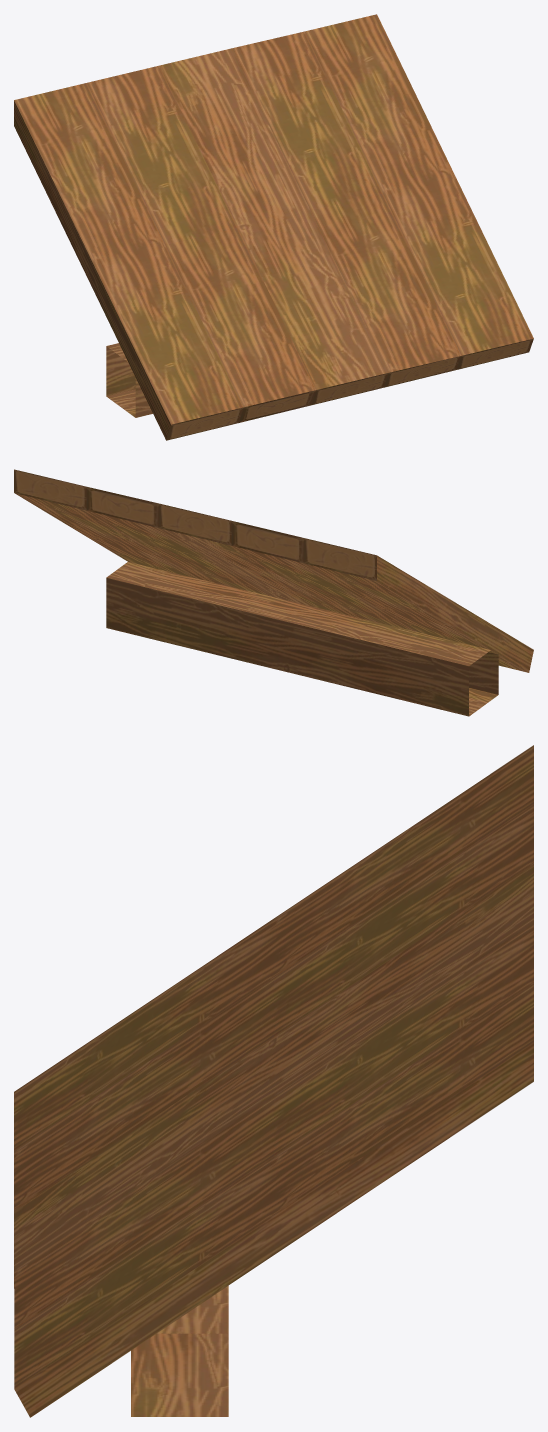
File: Roof_Wooden_2x1_Center.glb
3 views of the same model, one above another, from view 1: azimuth 30°, elevation 25°; view 2: azimuth 150°, elevation 25°; view 3: azimuth 270°, elevation 25° (orthographic). The views are drawn at different scales.
Parts seen in each view (by area): view 1: Roof_Wooden_2x1_Center; view 2: Roof_Wooden_2x1_Center; view 3: Roof_Wooden_2x1_Center.
Boxes of the visible parts, x1=… form: Roof_Wooden_2x1_Center: x1=14, y1=14, x2=533, y2=440; Roof_Wooden_2x1_Center: x1=14, y1=469, x2=533, y2=716; Roof_Wooden_2x1_Center: x1=14, y1=745, x2=533, y2=1417.
Bounding box in the file's own units: 2 × 1.21 × 1.5.
1 material, 1 textured.
